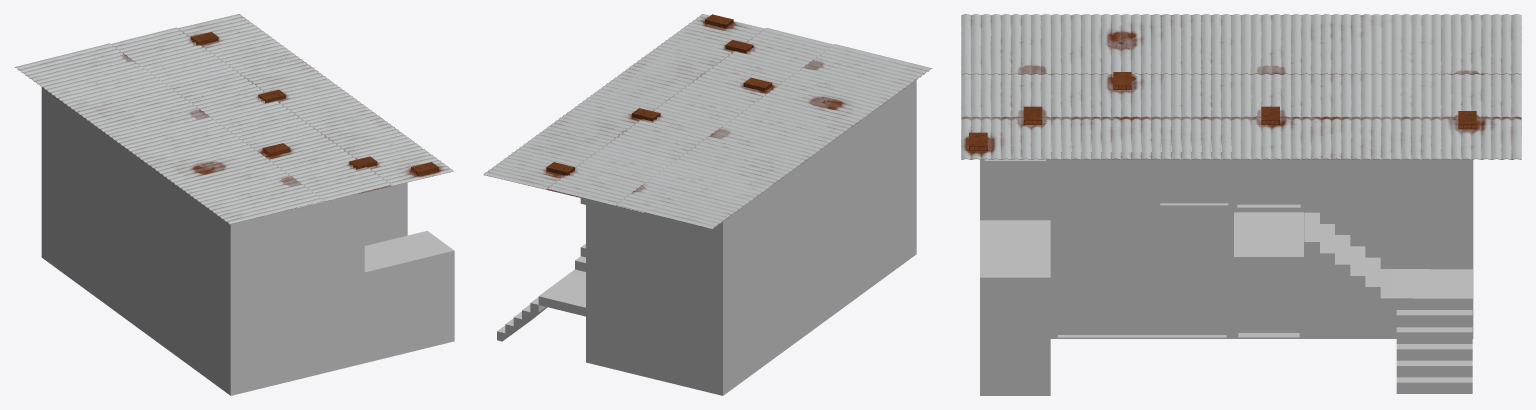
File: Casa04.fbx
3 renders of one model, left to right at view 1: azimuth 30°, elevation 25°; view 2: azimuth 150°, elevation 25°; view 3: azimuth 270°, elevation 25°, orthographic. The views are drawn at different scales.
Parts seen in each view (by area): view 1: Casa 04, Techo_1.003; view 2: Casa 04, Techo_1.003; view 3: Casa 04, Techo_1.003.
Part boxes in pixels (x1,y1,x2,y2): Casa 04: (41, 87, 454, 395); Techo_1.003: (15, 14, 453, 224); Casa 04: (497, 42, 916, 395); Techo_1.003: (483, 14, 932, 229); Casa 04: (980, 140, 1473, 395); Techo_1.003: (961, 14, 1521, 159).
Size of the model in its own units: 3777 by 2849 by 6055.
